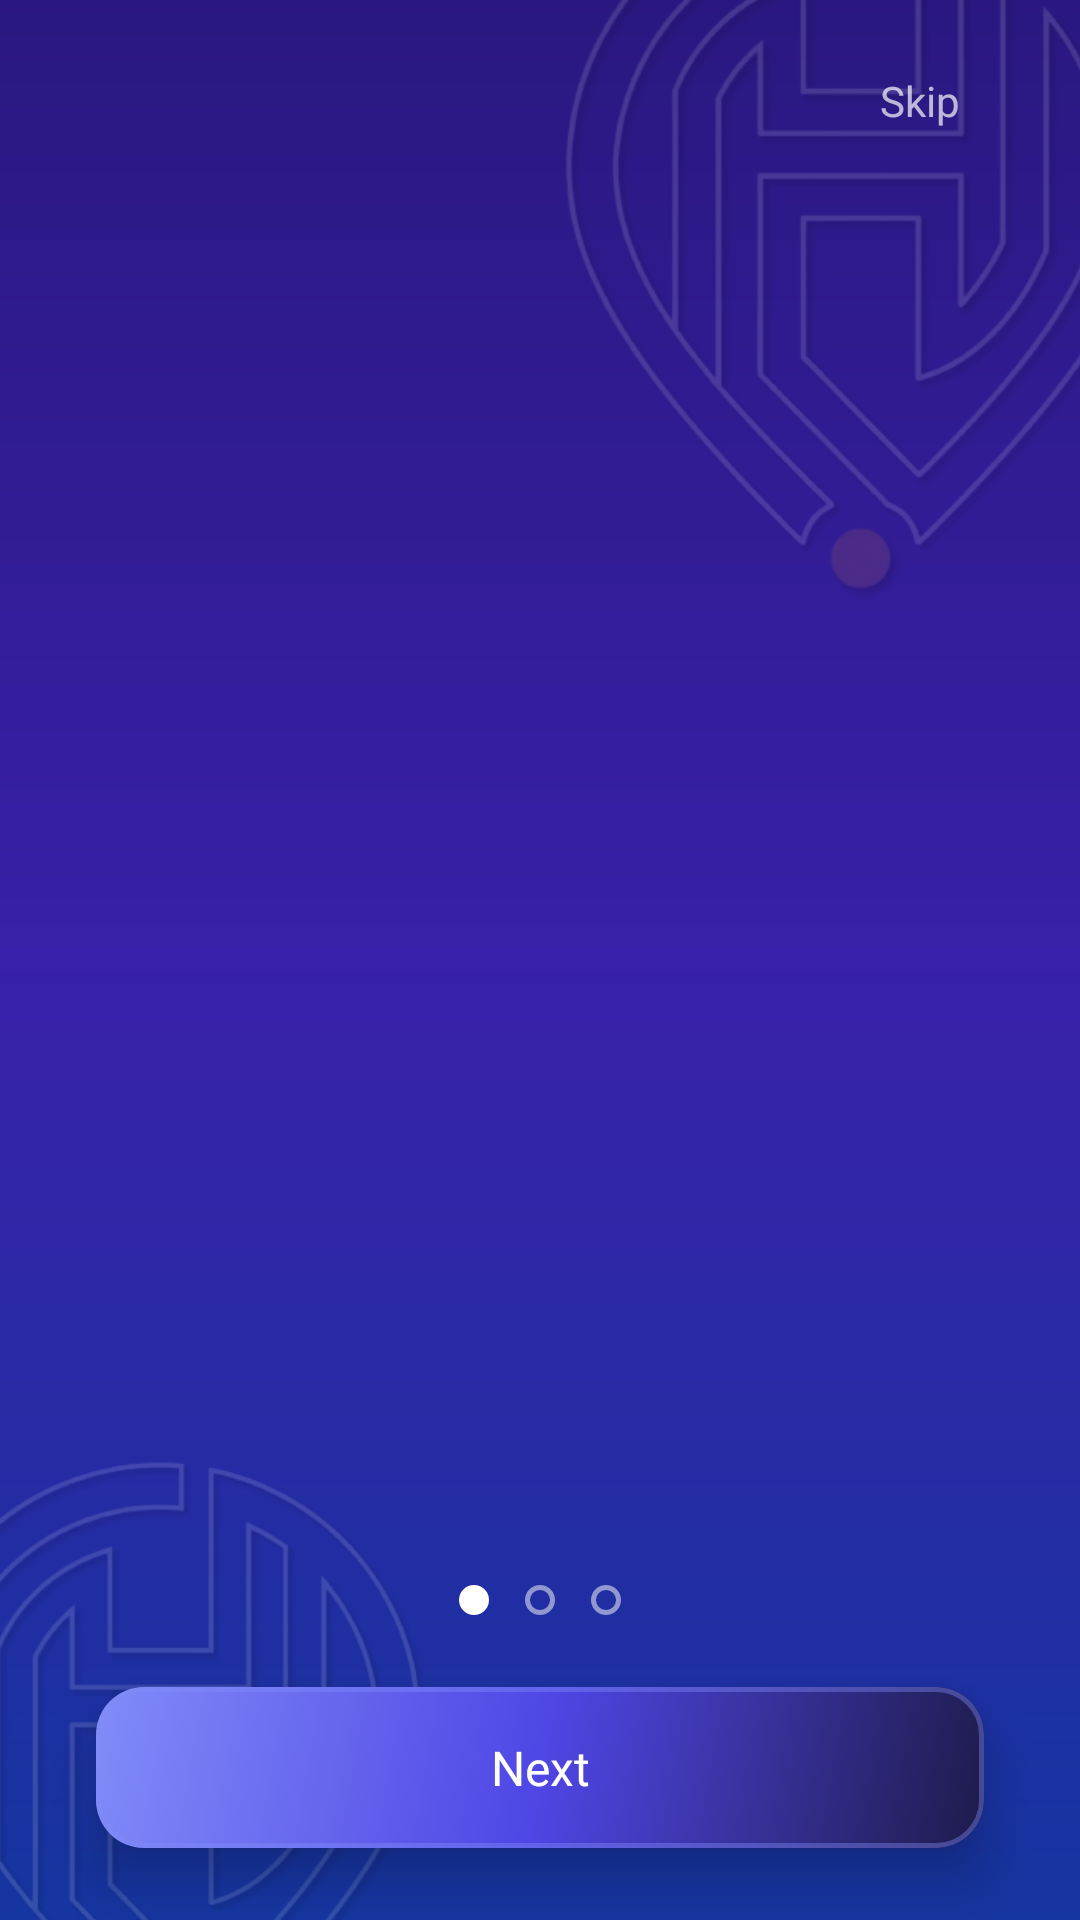

Named icons in this screenshot (1080px×1920px) and their bounding boxes, (x1, y1, x2, y2):
dot: (459, 1585, 489, 1615), (525, 1585, 555, 1615), (591, 1585, 621, 1615)
